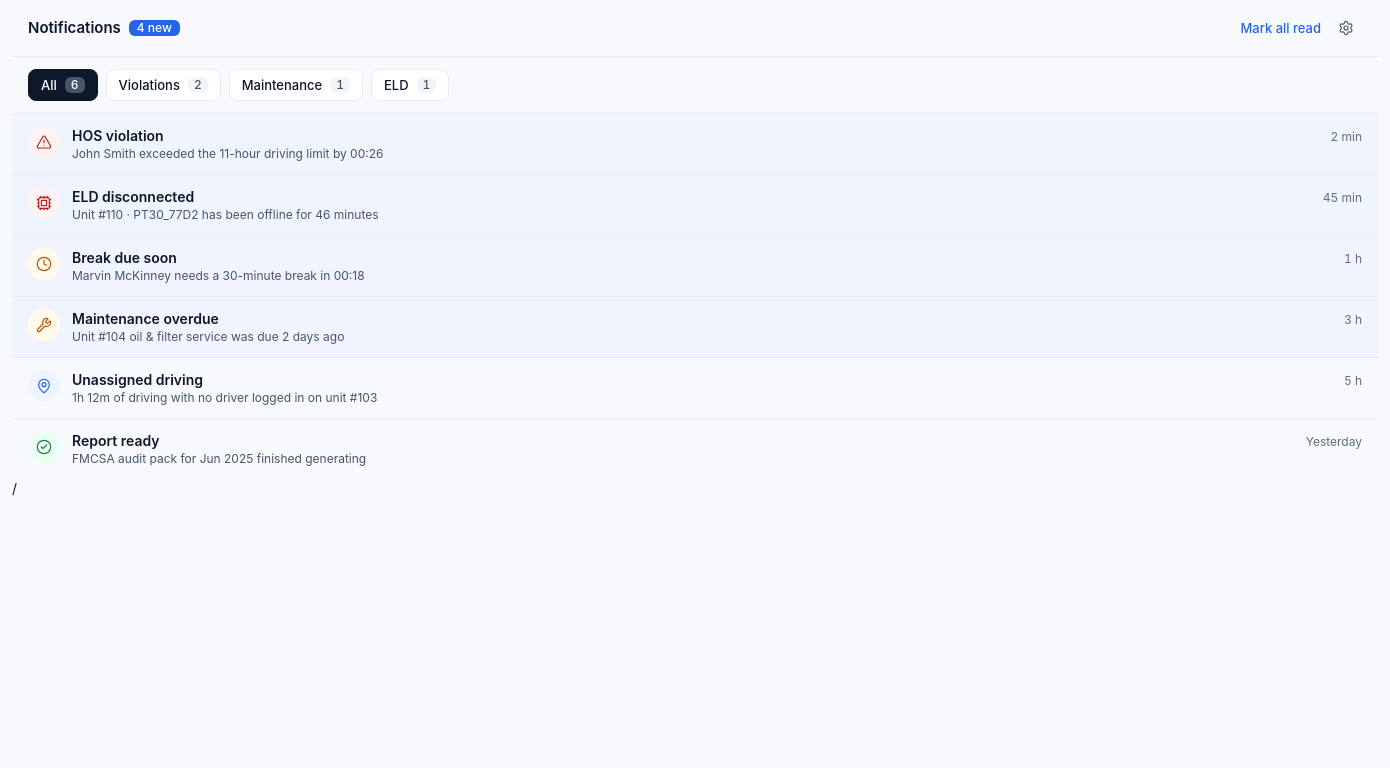
Scenario: 11.27 Mark all read › a failed request is reported instead of silently leaving the badges
The width and height of the screenshot is (1390, 768).
Check: the text "ELD disconnected" is shown, box [72,188,194,205]
What coordinates should you click on to do the following:
click the button "Mark all read"
I would click on:
 (1281, 28)
Its box is [1239,18,1322,38].
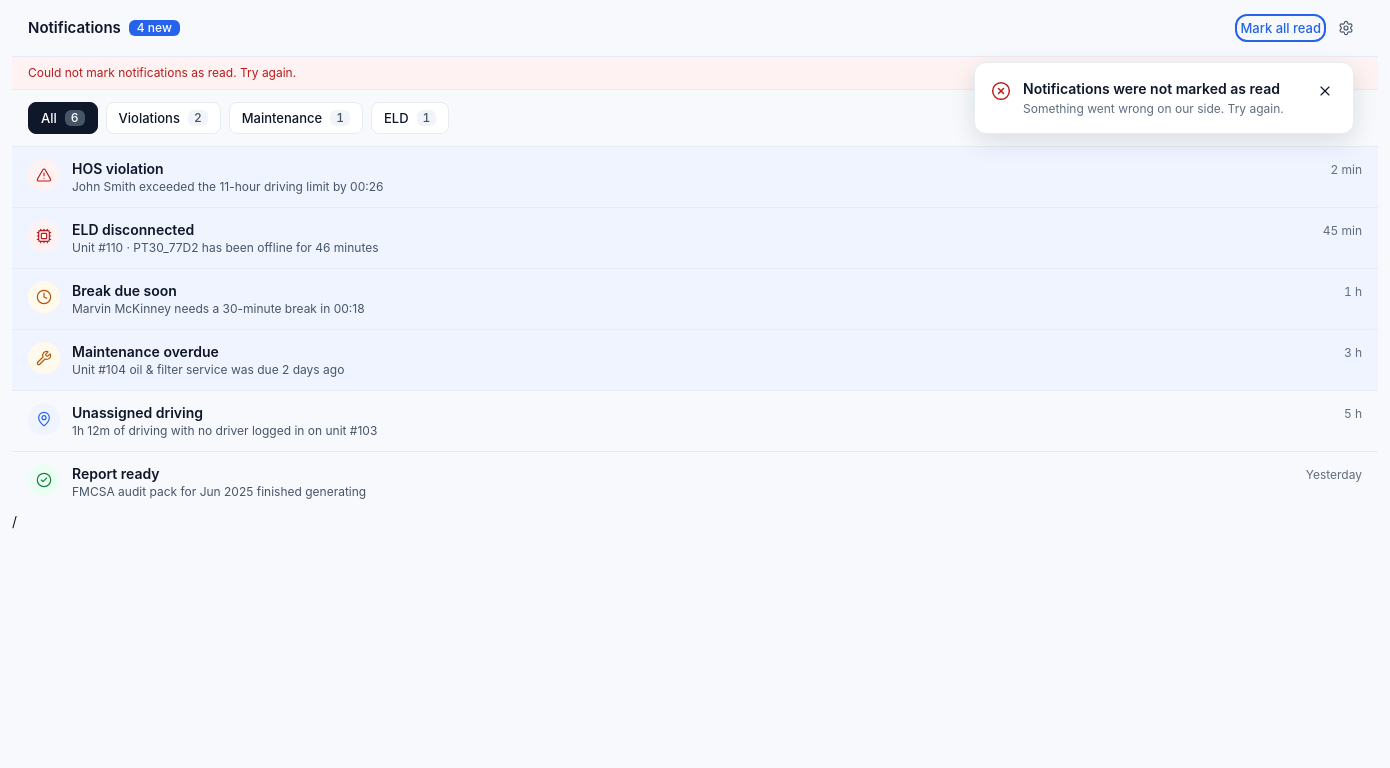
Check: the text "Notifications were not marked as read" is shown, box [1023,79,1301,99]
Check: the text "Something went wrong on our side. Try again." is shown, box [1023,101,1301,117]
